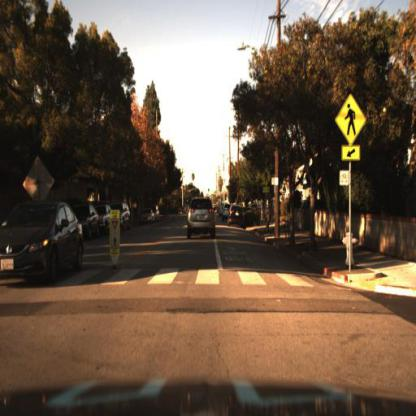car: (1, 199, 87, 285), (187, 193, 221, 241), (71, 200, 102, 239), (79, 204, 103, 238), (116, 201, 135, 237), (98, 202, 115, 238), (226, 203, 246, 230), (138, 207, 159, 228)
